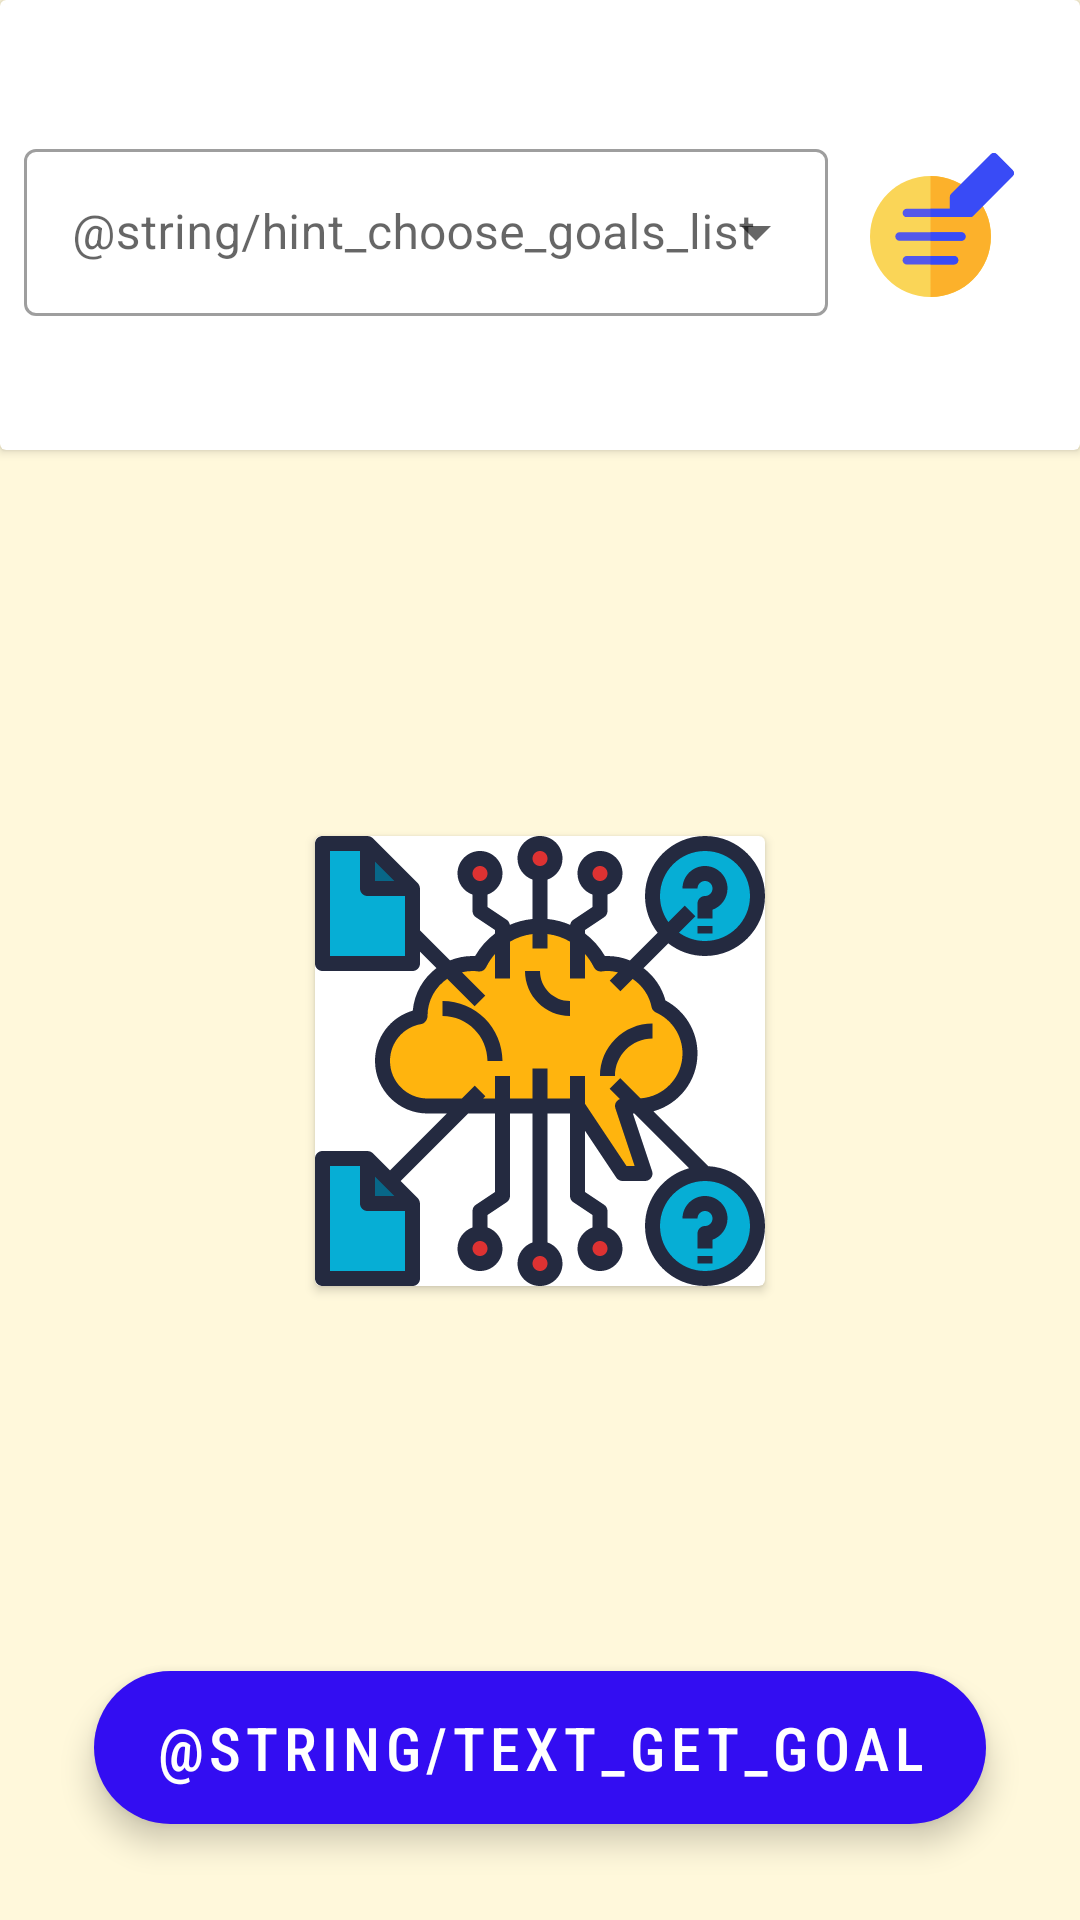

Where icons sit on this 1080px x 1920px app screen, as (x1, y1, x2, y2):
notepad: (870, 153, 1014, 297)
